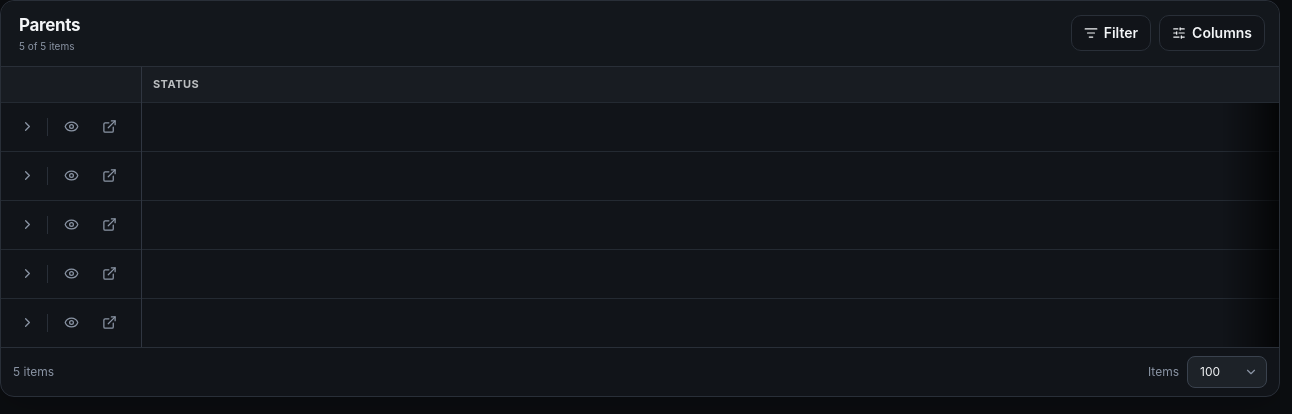
Test case: recursive collection tables › preserves an explicit choice to hide every data column
This screenshot has width=1292, height=414.
Check: the column heading "Title" is not shown
Click the button with aria-label "Choose visible columns" at (1212, 33), box [1159, 15, 1265, 51]
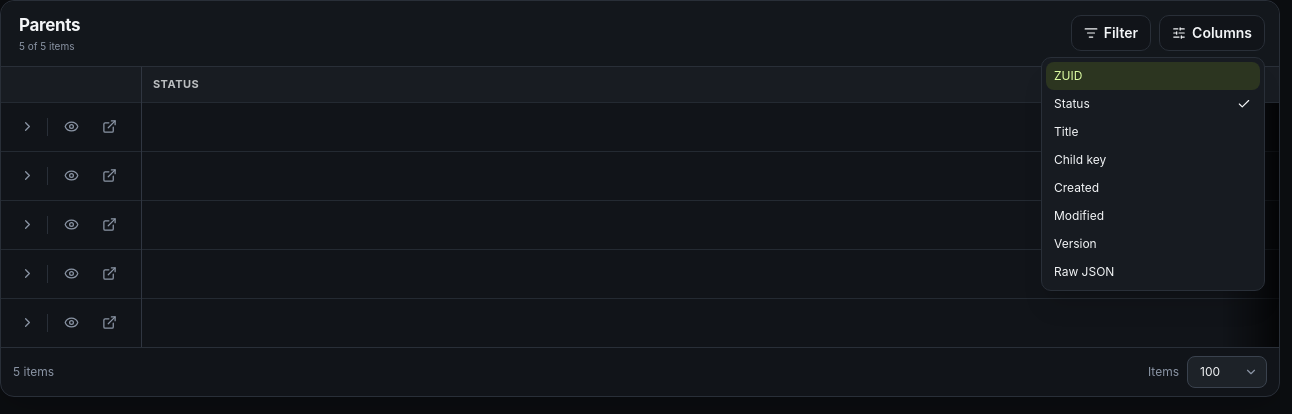
Check: the menu item "Title" is not checked, box [1054, 124, 1078, 139]
Check: the menu item "ZUID" is not checked, box [1046, 62, 1260, 90]
